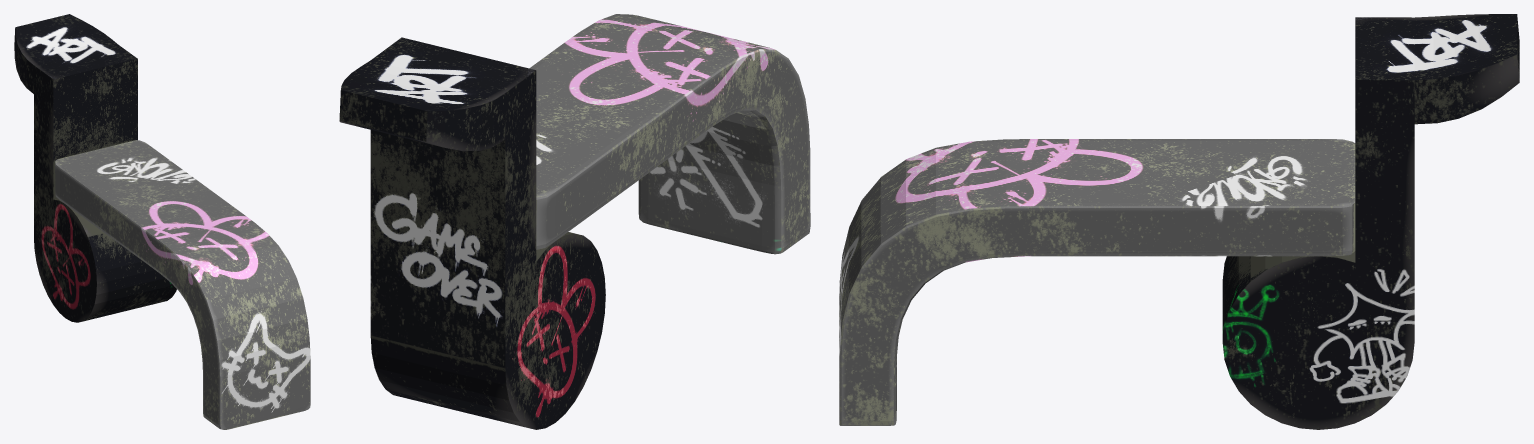
The model's file is Ext_BancoDecorativo.glb.
3 renders of one model, left to right at view 1: azimuth 30°, elevation 25°; view 2: azimuth 150°, elevation 25°; view 3: azimuth 270°, elevation 25°, orthographic. The views are drawn at different scales.
Parts seen in each view (by area): view 1: Ext_BancoDecorativo; view 2: Ext_BancoDecorativo; view 3: Ext_BancoDecorativo.
Boxes of the visible parts, x1,y1,x2,y2 form: Ext_BancoDecorativo: (14,14,310,429); Ext_BancoDecorativo: (339,14,810,429); Ext_BancoDecorativo: (839,14,1519,429).
Bounding box in the file's own units: 0.4345 × 1.09 × 1.85.
Materials: 1 (1 with a texture image).
